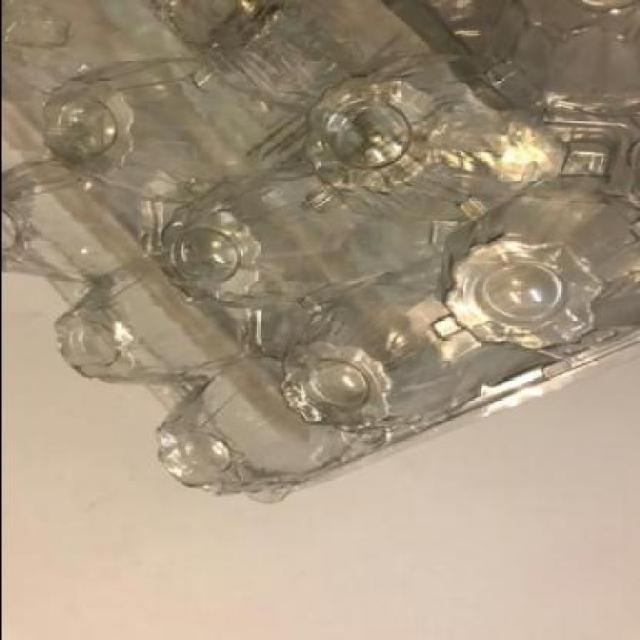PLASTIC: (1, 0, 638, 506)
